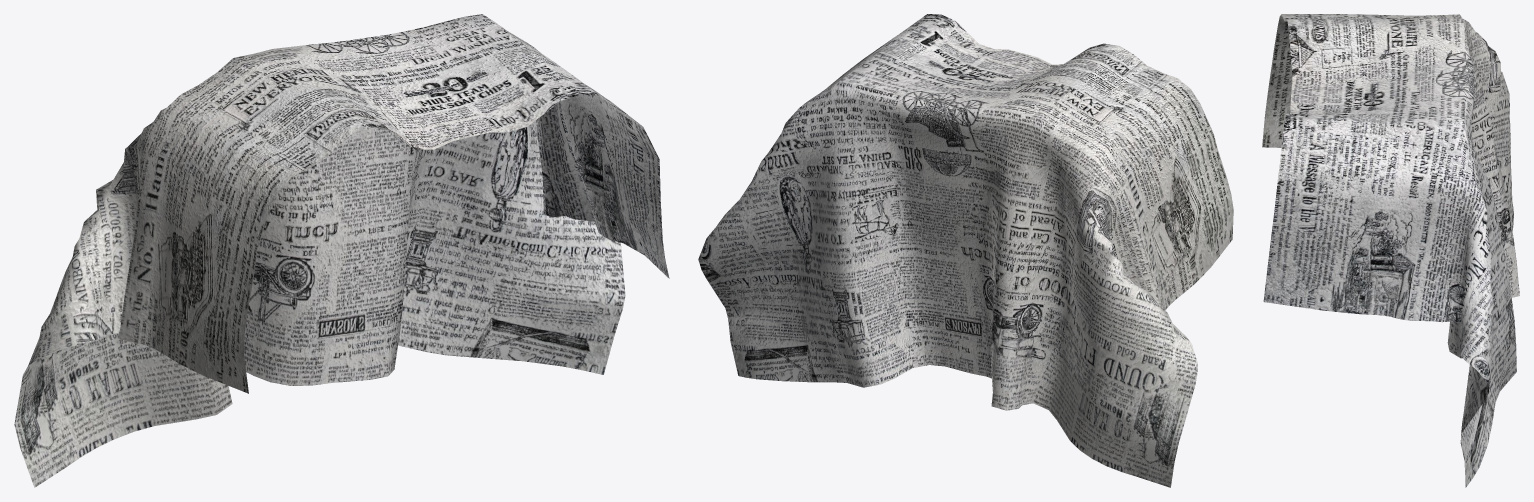
Rendered from NewspaperC_1.fbx.
The picture shows the model from 3 angles, left to right: view 1: azimuth 30°, elevation 25°; view 2: azimuth 150°, elevation 25°; view 3: azimuth 270°, elevation 25°; orthographic projection. The views are drawn at different scales.
Parts seen in each view (by area): view 1: NEWS_pPlane4; view 2: NEWS_pPlane4; view 3: NEWS_pPlane4.
Part boxes in pixels (x1=…): NEWS_pPlane4: x1=14, y1=14, x2=669, y2=487; NEWS_pPlane4: x1=698, y1=14, x2=1233, y2=487; NEWS_pPlane4: x1=1262, y1=14, x2=1519, y2=487.
Bounding box in the file's own units: 10.24 × 6.66 × 4.74.
